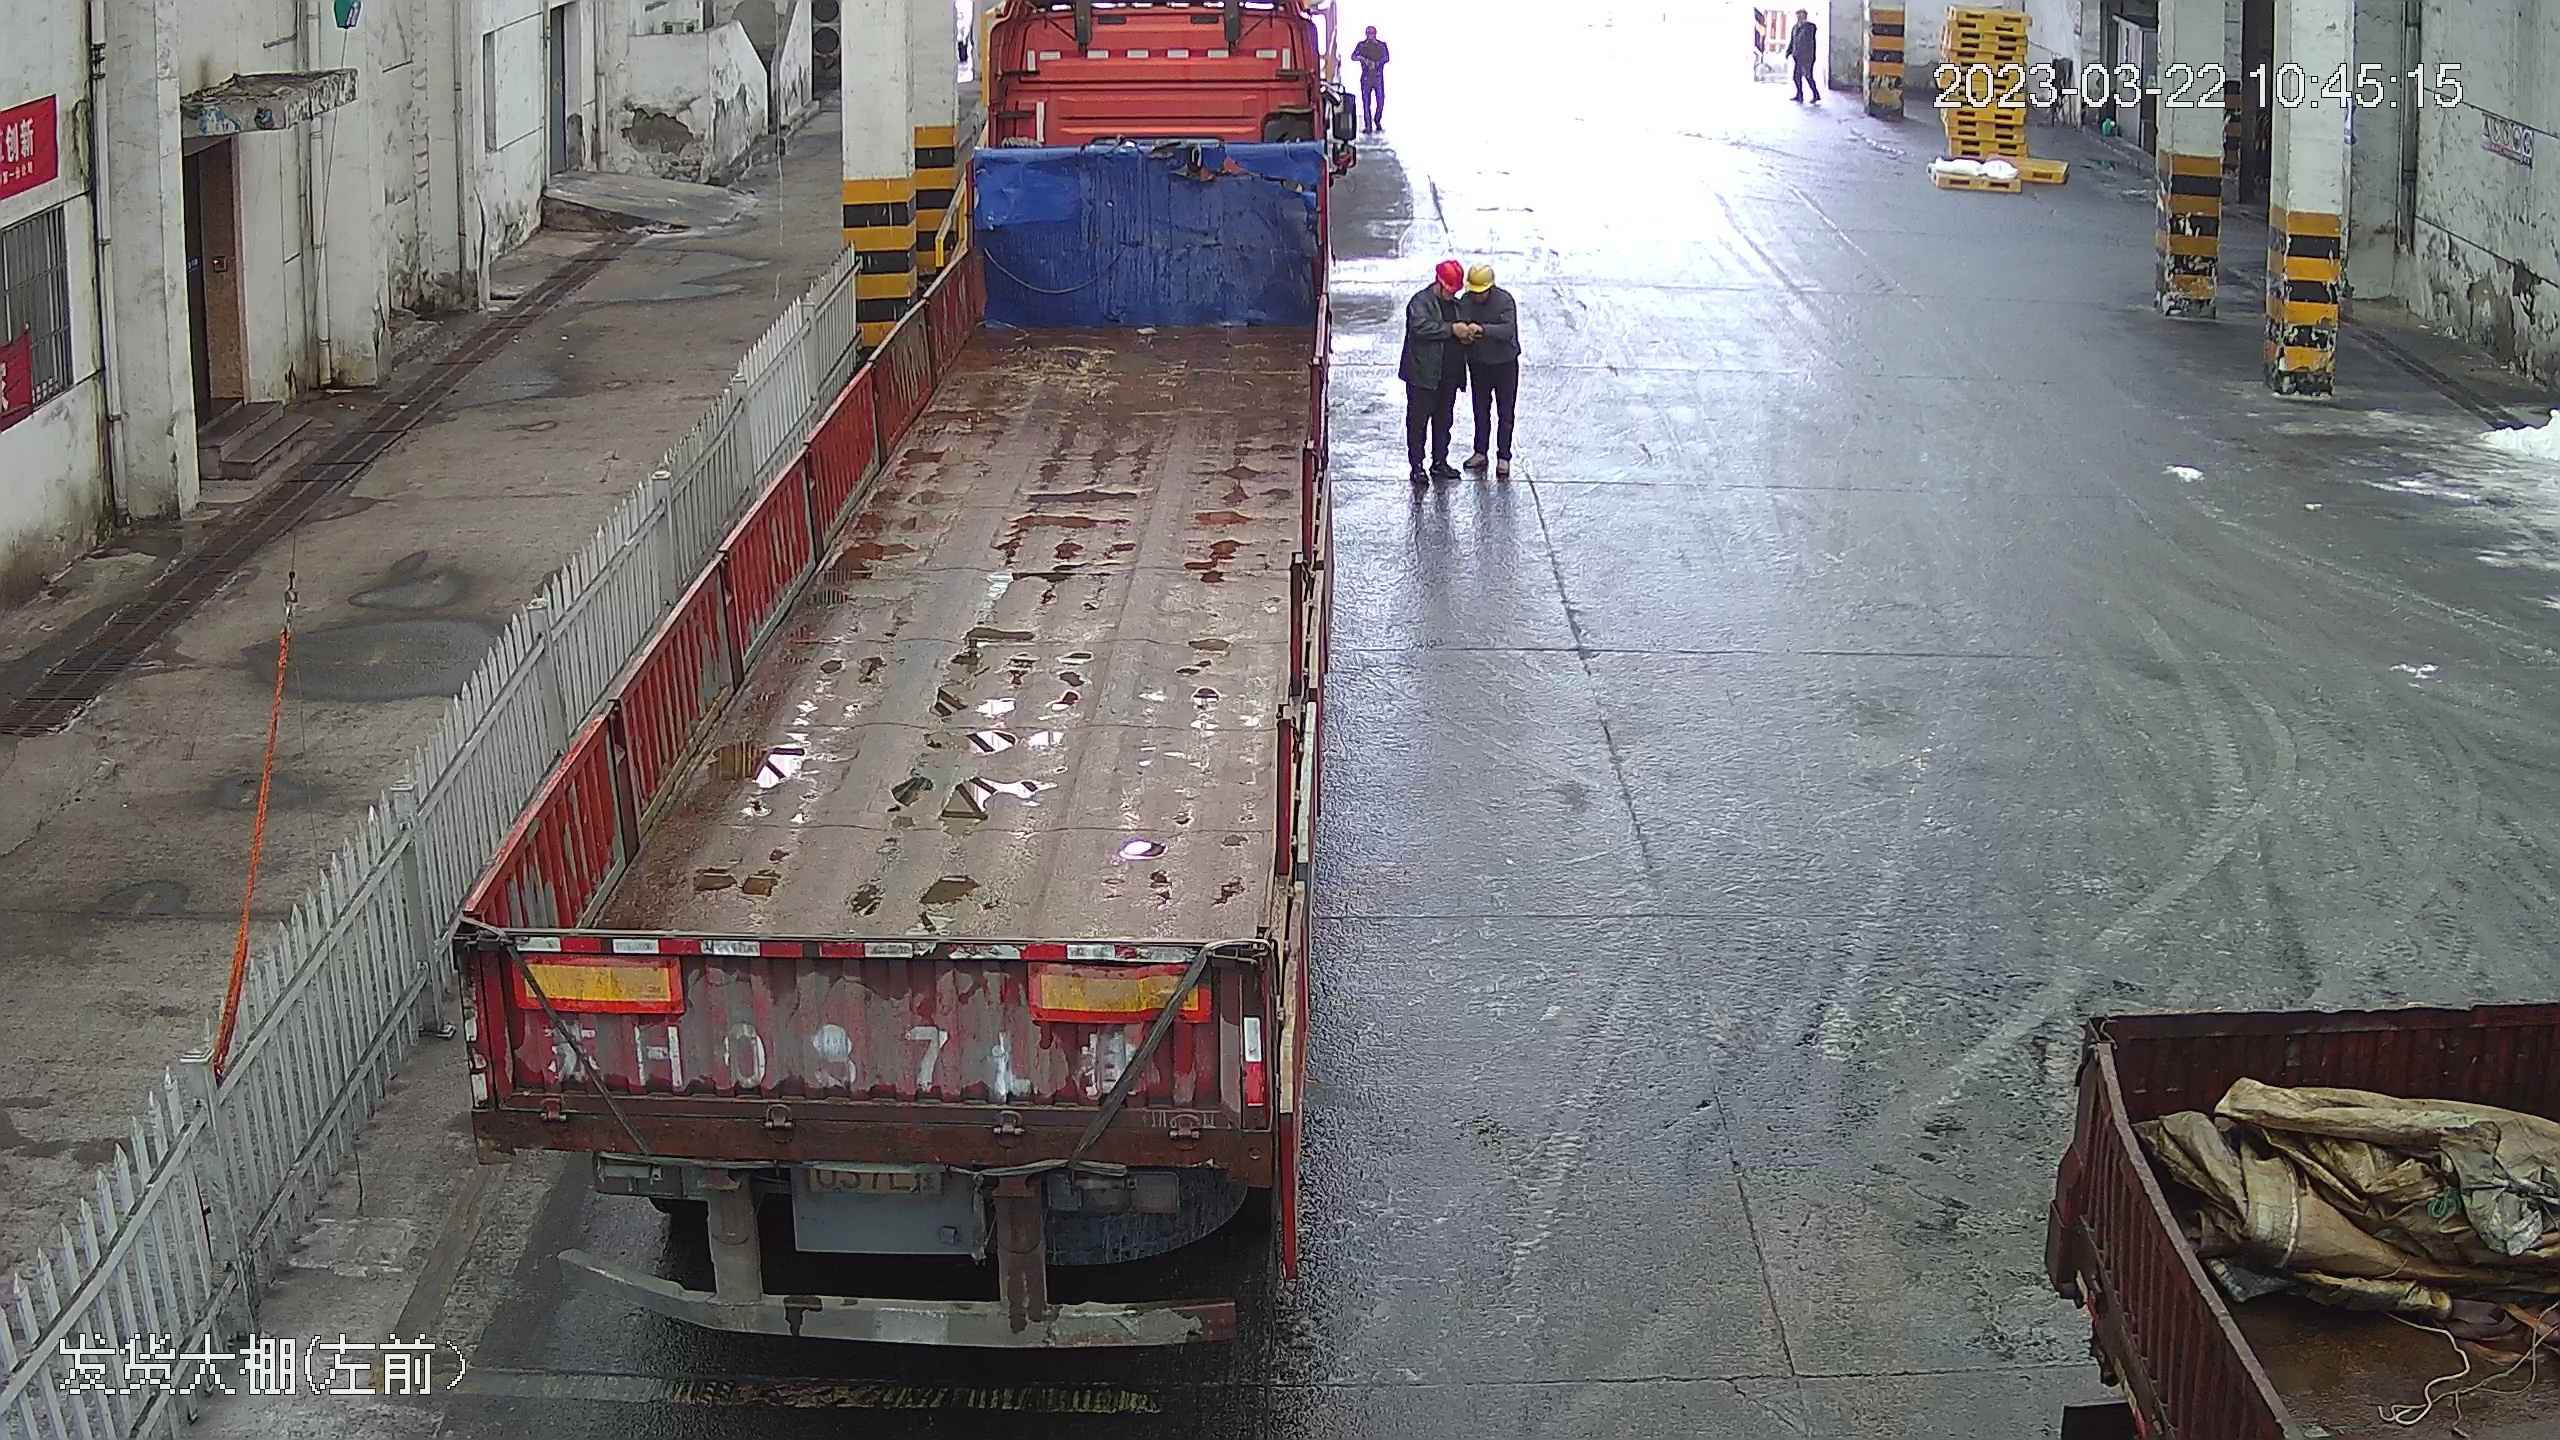head: (1403, 254, 1468, 326), (1460, 262, 1521, 324), (1356, 17, 1390, 53)
helmet: (1465, 261, 1500, 291), (1432, 256, 1466, 285), (1364, 25, 1377, 36)
people: (1395, 251, 1470, 498), (1456, 253, 1526, 485), (1352, 13, 1394, 134), (1787, 3, 1829, 101)
truck: (430, 1, 1385, 1358), (2033, 991, 2560, 1440)
